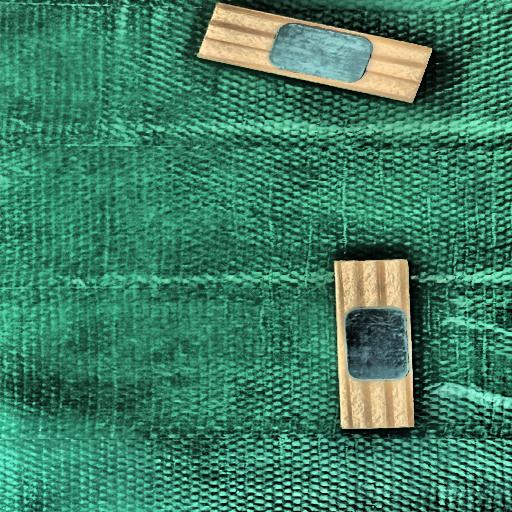objects: (197, 1, 434, 105), (334, 258, 414, 430)
